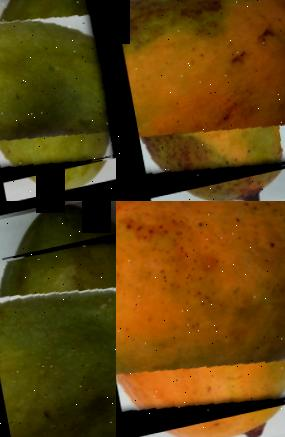PartiallyRipe: (116, 201, 285, 437)
Ripe: (116, 0, 285, 195)
Unripe: (0, 219, 116, 437), (0, 0, 116, 181)
